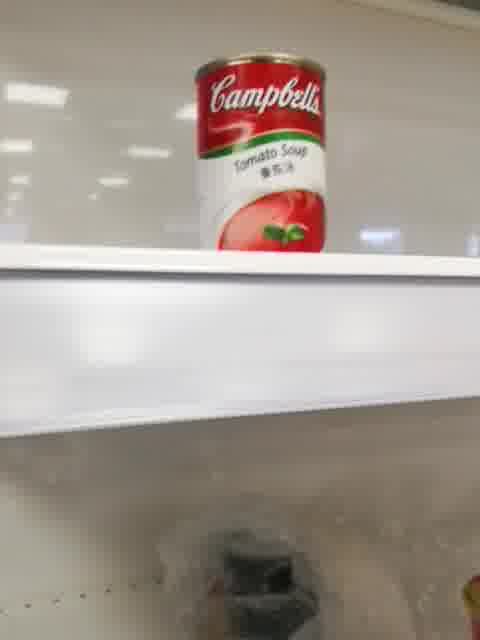tomatosoup: (193, 50, 326, 253)
